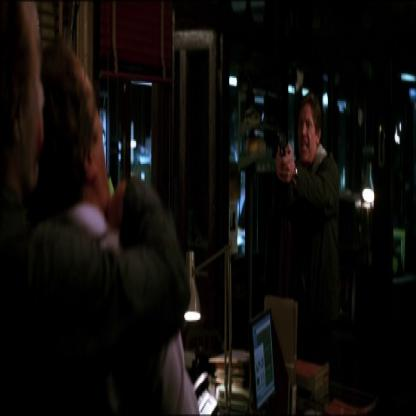Gun: (273, 123, 291, 172)
